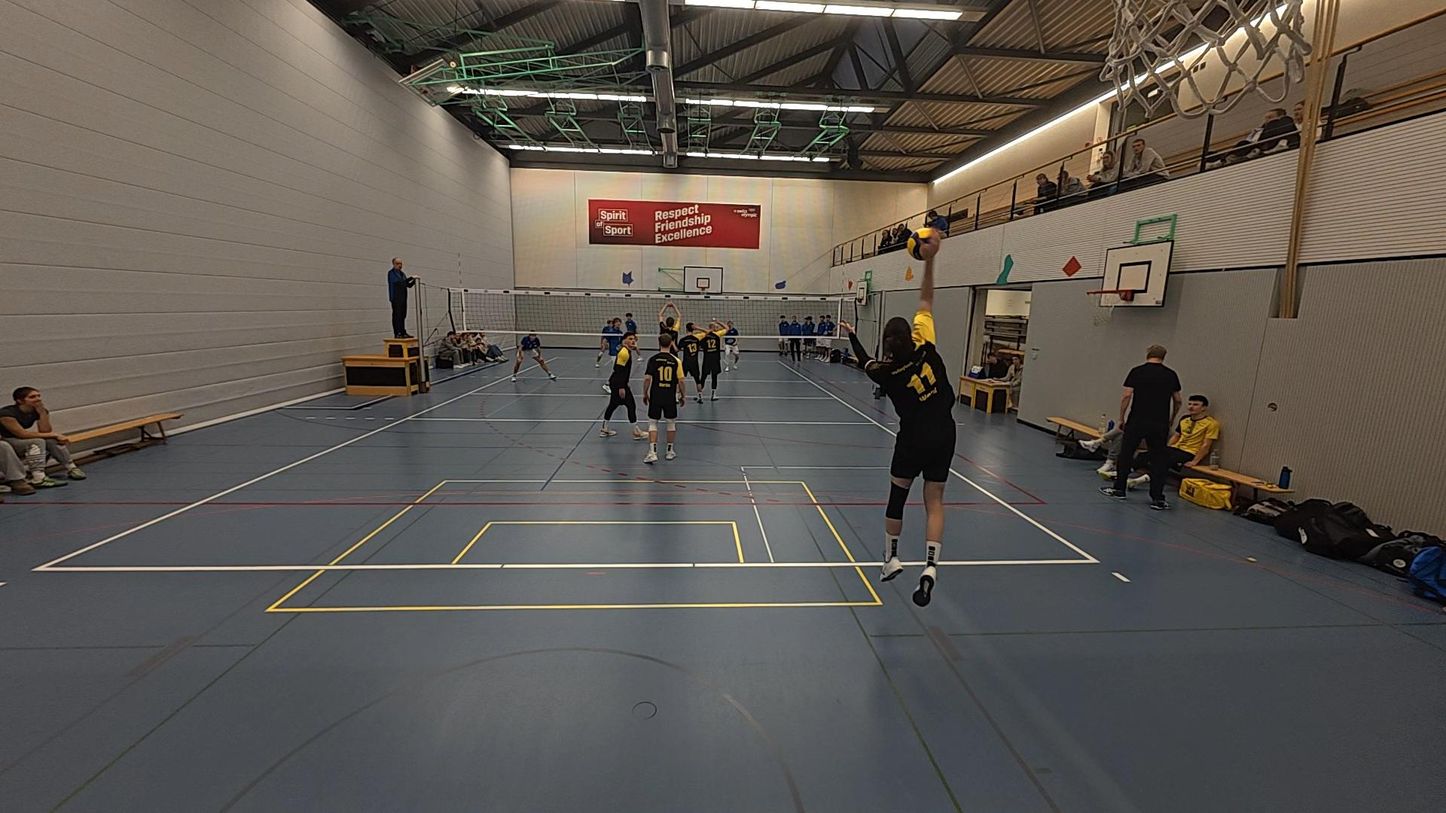battuta: (854, 236, 967, 610)
